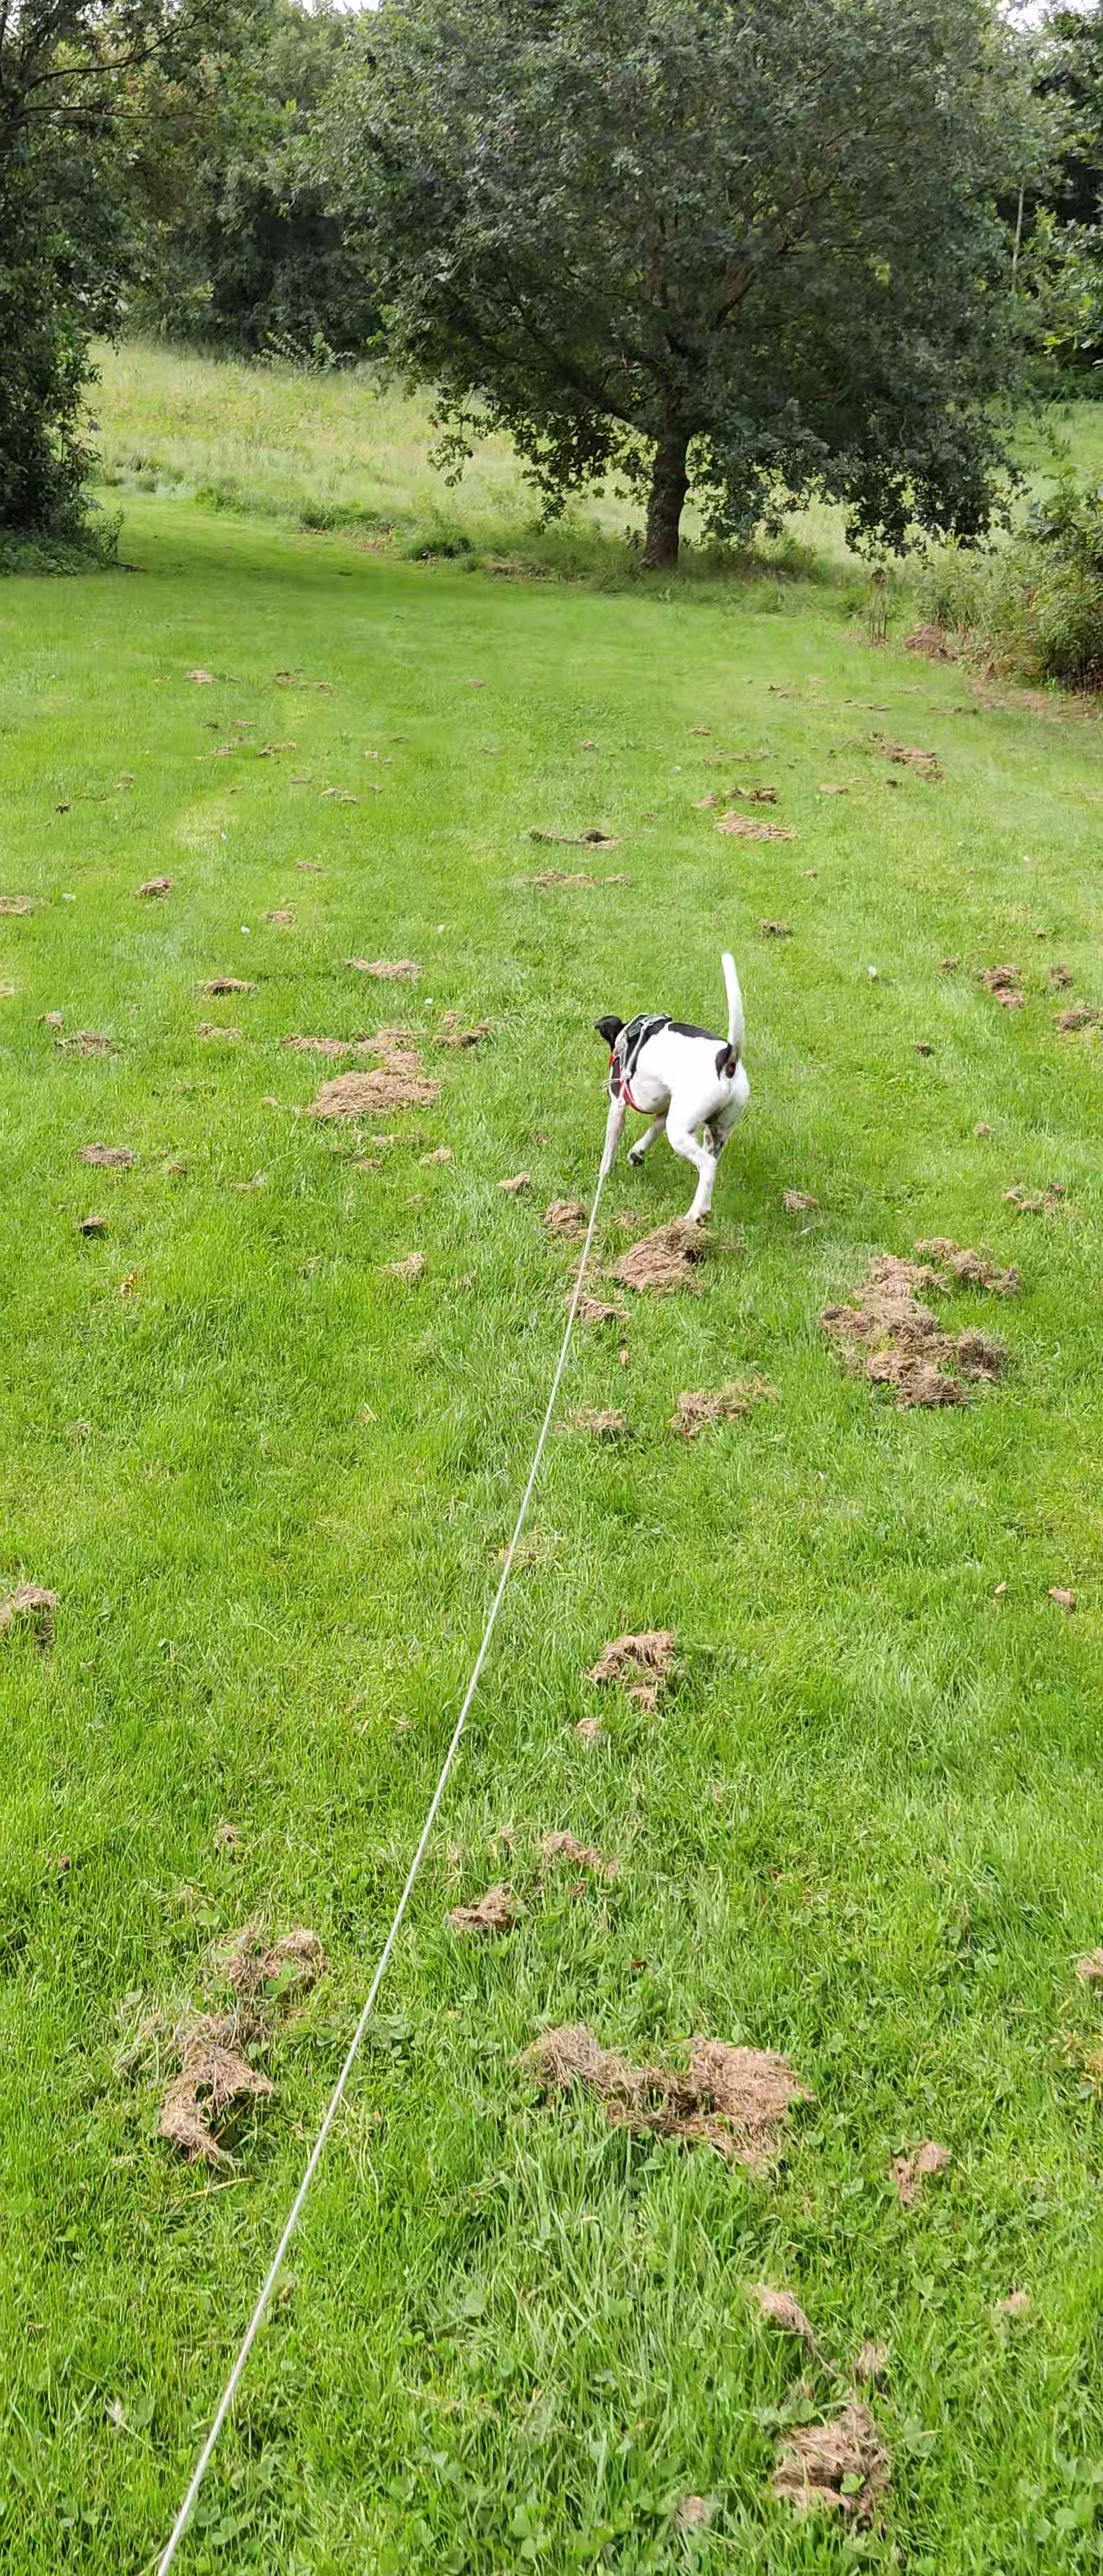Dog: (595, 950, 755, 1237)
